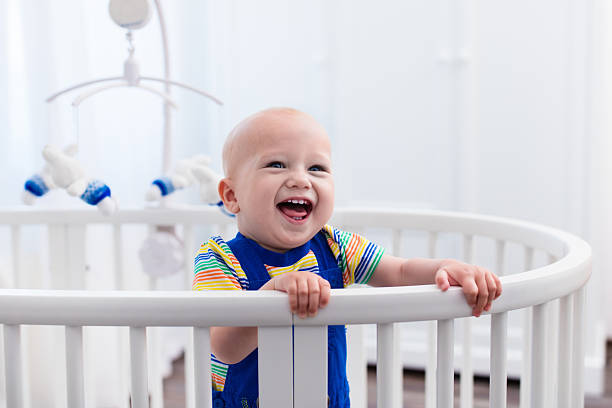baby: (193, 108, 500, 316)
crib: (0, 207, 474, 407)
